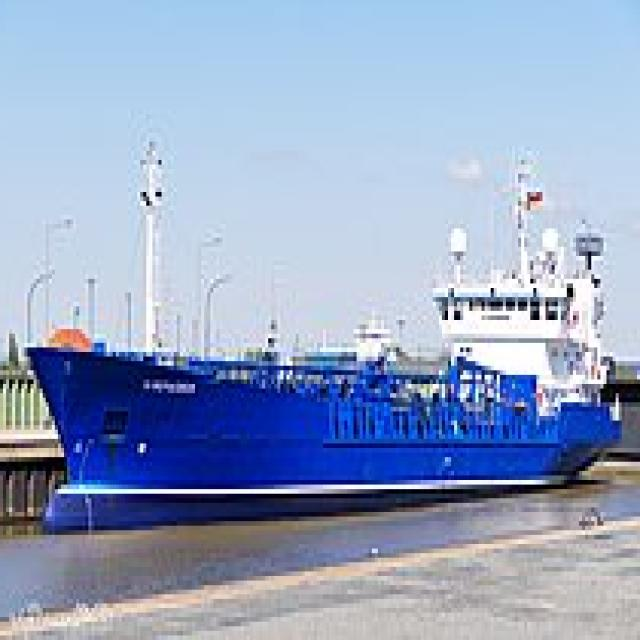Tanker: (24, 151, 628, 535)
